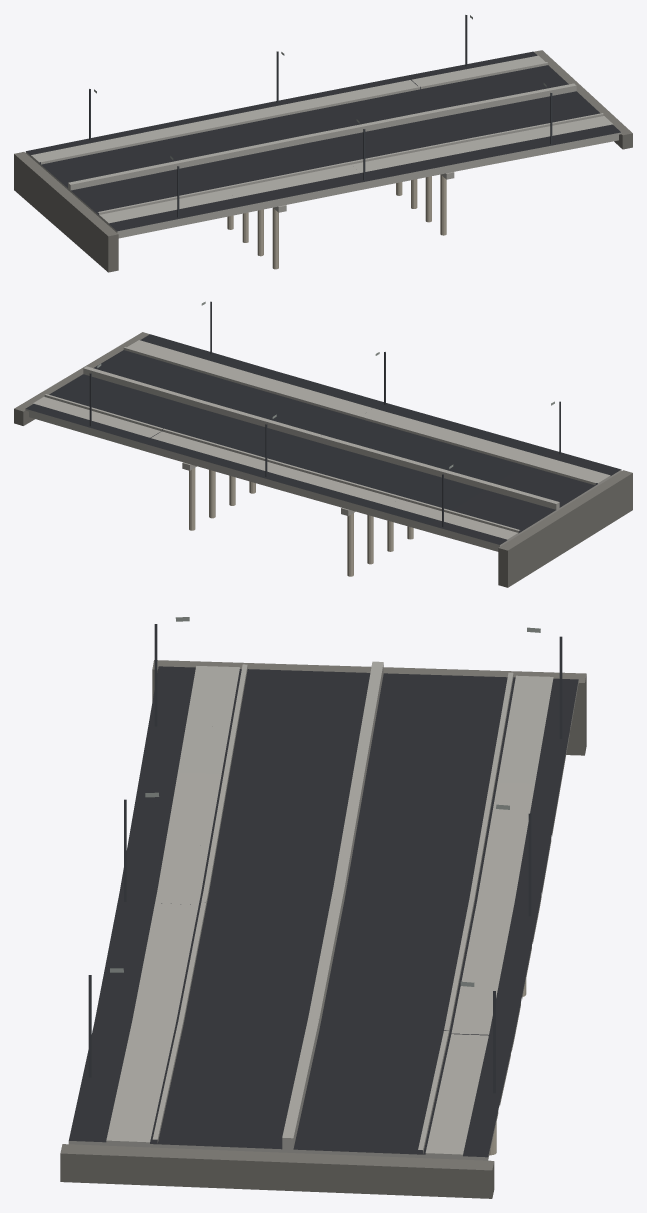
Rendered from br_w85_fox_drive_lod1.gltf.
The picture shows the model from 3 angles, top to bottom: view 1: azimuth 30°, elevation 25°; view 2: azimuth 150°, elevation 25°; view 3: azimuth 270°, elevation 25°; orthographic projection. The views are drawn at different scales.
Visible parts, largest first — view 1: br_w85_fox_drive_lod1; view 2: br_w85_fox_drive_lod1; view 3: br_w85_fox_drive_lod1.
Boxes of the visible parts, x1,y1,x2,y2 form: br_w85_fox_drive_lod1: (14, 15, 632, 272); br_w85_fox_drive_lod1: (14, 301, 632, 587); br_w85_fox_drive_lod1: (60, 617, 586, 1198).
Size of the model in its own units: 95.25 by 23.59 by 41.86.
